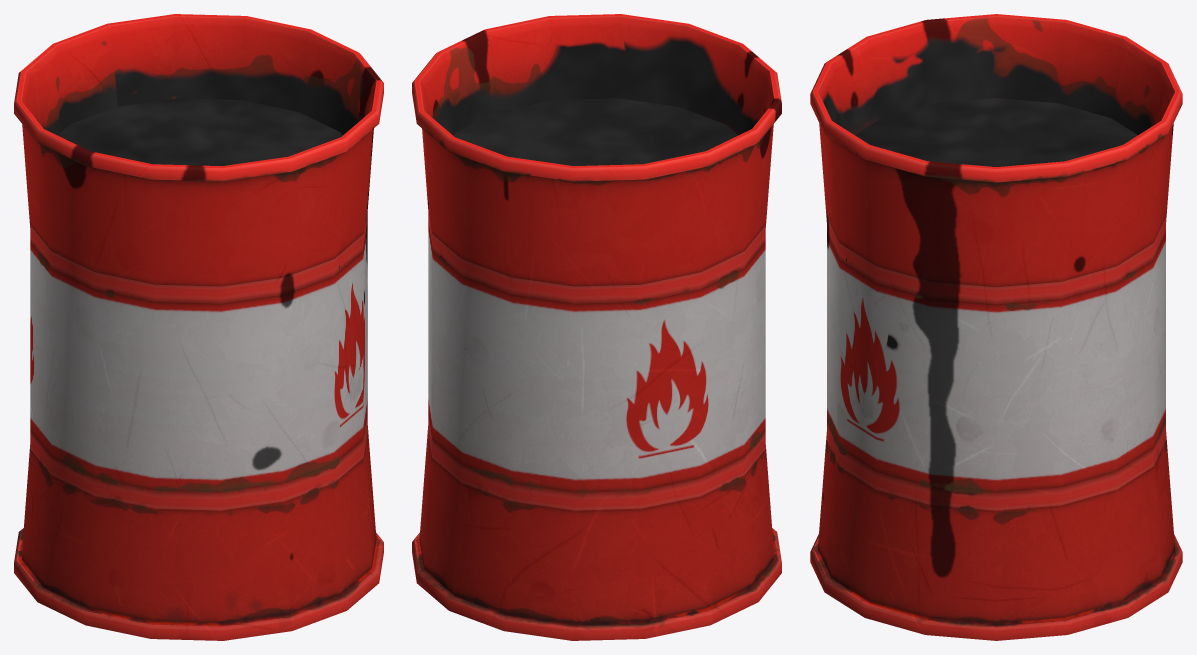
Rendered from BarrelMetallic01_2.FBX.
The picture shows the model from 3 angles, left to right: view 1: azimuth 30°, elevation 25°; view 2: azimuth 150°, elevation 25°; view 3: azimuth 270°, elevation 25°; orthographic projection.
Visible parts, largest first — view 1: BarrelMetallic01_2; view 2: BarrelMetallic01_2; view 3: BarrelMetallic01_2.
Boxes of the visible parts, left/top/right/bottom form: BarrelMetallic01_2: left=14, top=14, right=383, bottom=640; BarrelMetallic01_2: left=412, top=14, right=781, bottom=640; BarrelMetallic01_2: left=810, top=14, right=1182, bottom=640.
Size of what is drawn, in the model's own units: 0.7514 by 1.05 by 0.7514.
